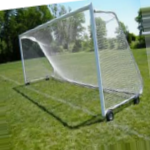goals: (17, 2, 144, 118)
